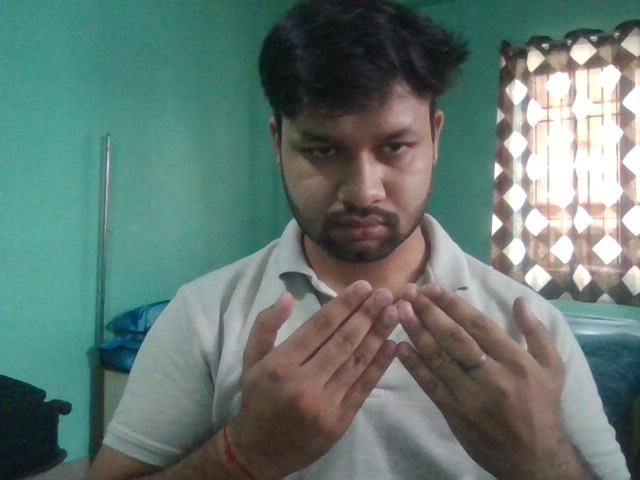Thank You: (221, 278, 578, 469)
